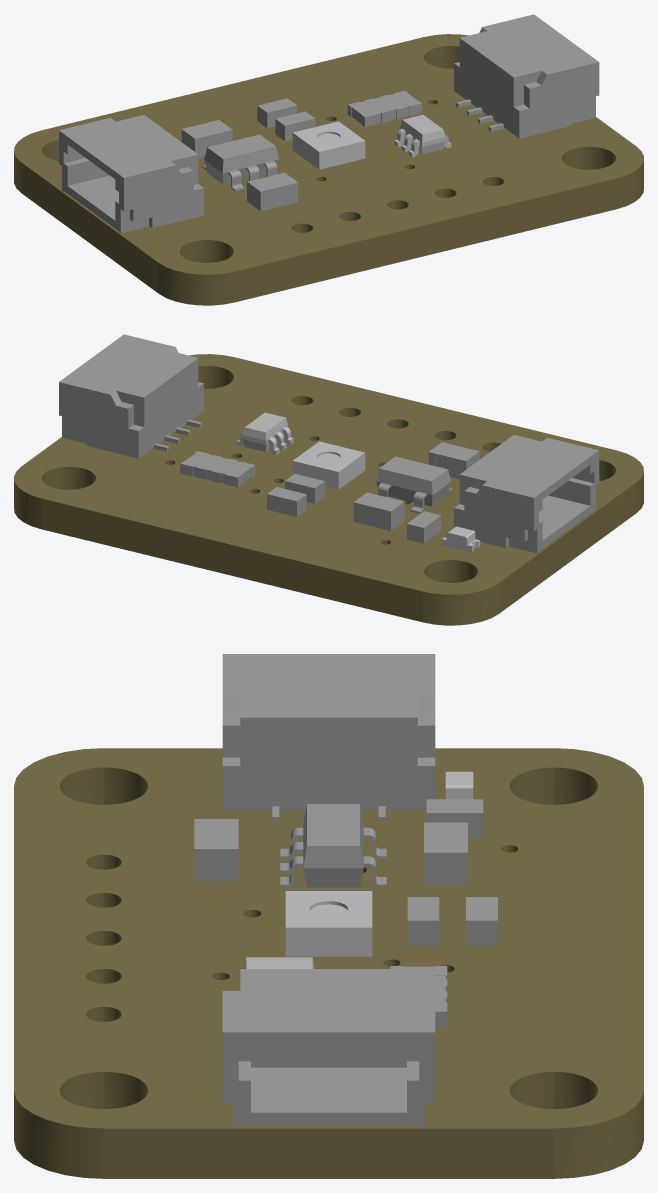
File: ada-4829.glb
The picture shows the model from 3 angles, top to bottom: view 1: azimuth 30°, elevation 25°; view 2: azimuth 150°, elevation 25°; view 3: azimuth 270°, elevation 25°; orthographic projection. The views are drawn at different scales.
Parts seen in each view (by area): view 1: 0.16666666666666666_0.16666666666666666_0.08333333333333333_, 0.3333333333333333_0.3333333333333333_0.3333333333333333_0, 0.5833333333333334_0.5833333333333334_0.5833333333333334_0.8, 0.5_0.5_0.5_0.85; view 2: 0.16666666666666666_0.16666666666666666_0.08333333333333333_, 0.3333333333333333_0.3333333333333333_0.3333333333333333_0, 0.5833333333333334_0.5833333333333334_0.5833333333333334_0.8, 0.5_0.5_0.5_0.85; view 3: 0.16666666666666666_0.16666666666666666_0.08333333333333333_, 0.3333333333333333_0.3333333333333333_0.3333333333333333_0, 0.5833333333333334_0.5833333333333334_0.5833333333333334_0.8, 0.5_0.5_0.5_0.85.
Part boxes in pixels (x1,y1,x2,y2): 0.16666666666666666_0.16666666666666666_0.08333333333333333_: (14,34,643,305); 0.3333333333333333_0.3333333333333333_0.3333333333333333_0: (59,14,599,233); 0.5833333333333334_0.5833333333333334_0.5833333333333334_0.8: (292,121,365,169); 0.5_0.5_0.5_0.85: (394,114,451,157); 0.16666666666666666_0.16666666666666666_0.08333333333333333_: (14,354,643,625); 0.3333333333333333_0.3333333333333333_0.3333333333333333_0: (59,334,599,553); 0.5833333333333334_0.5833333333333334_0.5833333333333334_0.8: (292,441,480,552); 0.5_0.5_0.5_0.85: (237,412,293,455); 0.16666666666666666_0.16666666666666666_0.08333333333333333_: (14,748,643,1178); 0.3333333333333333_0.3333333333333333_0.3333333333333333_0: (194,654,497,1127); 0.5833333333333334_0.5833333333333334_0.5833333333333334_0.8: (285,771,473,956); 0.5_0.5_0.5_0.85: (244,957,314,968).
Bounding box in the file's own units: 2.54 × 0.4529 × 1.78.
